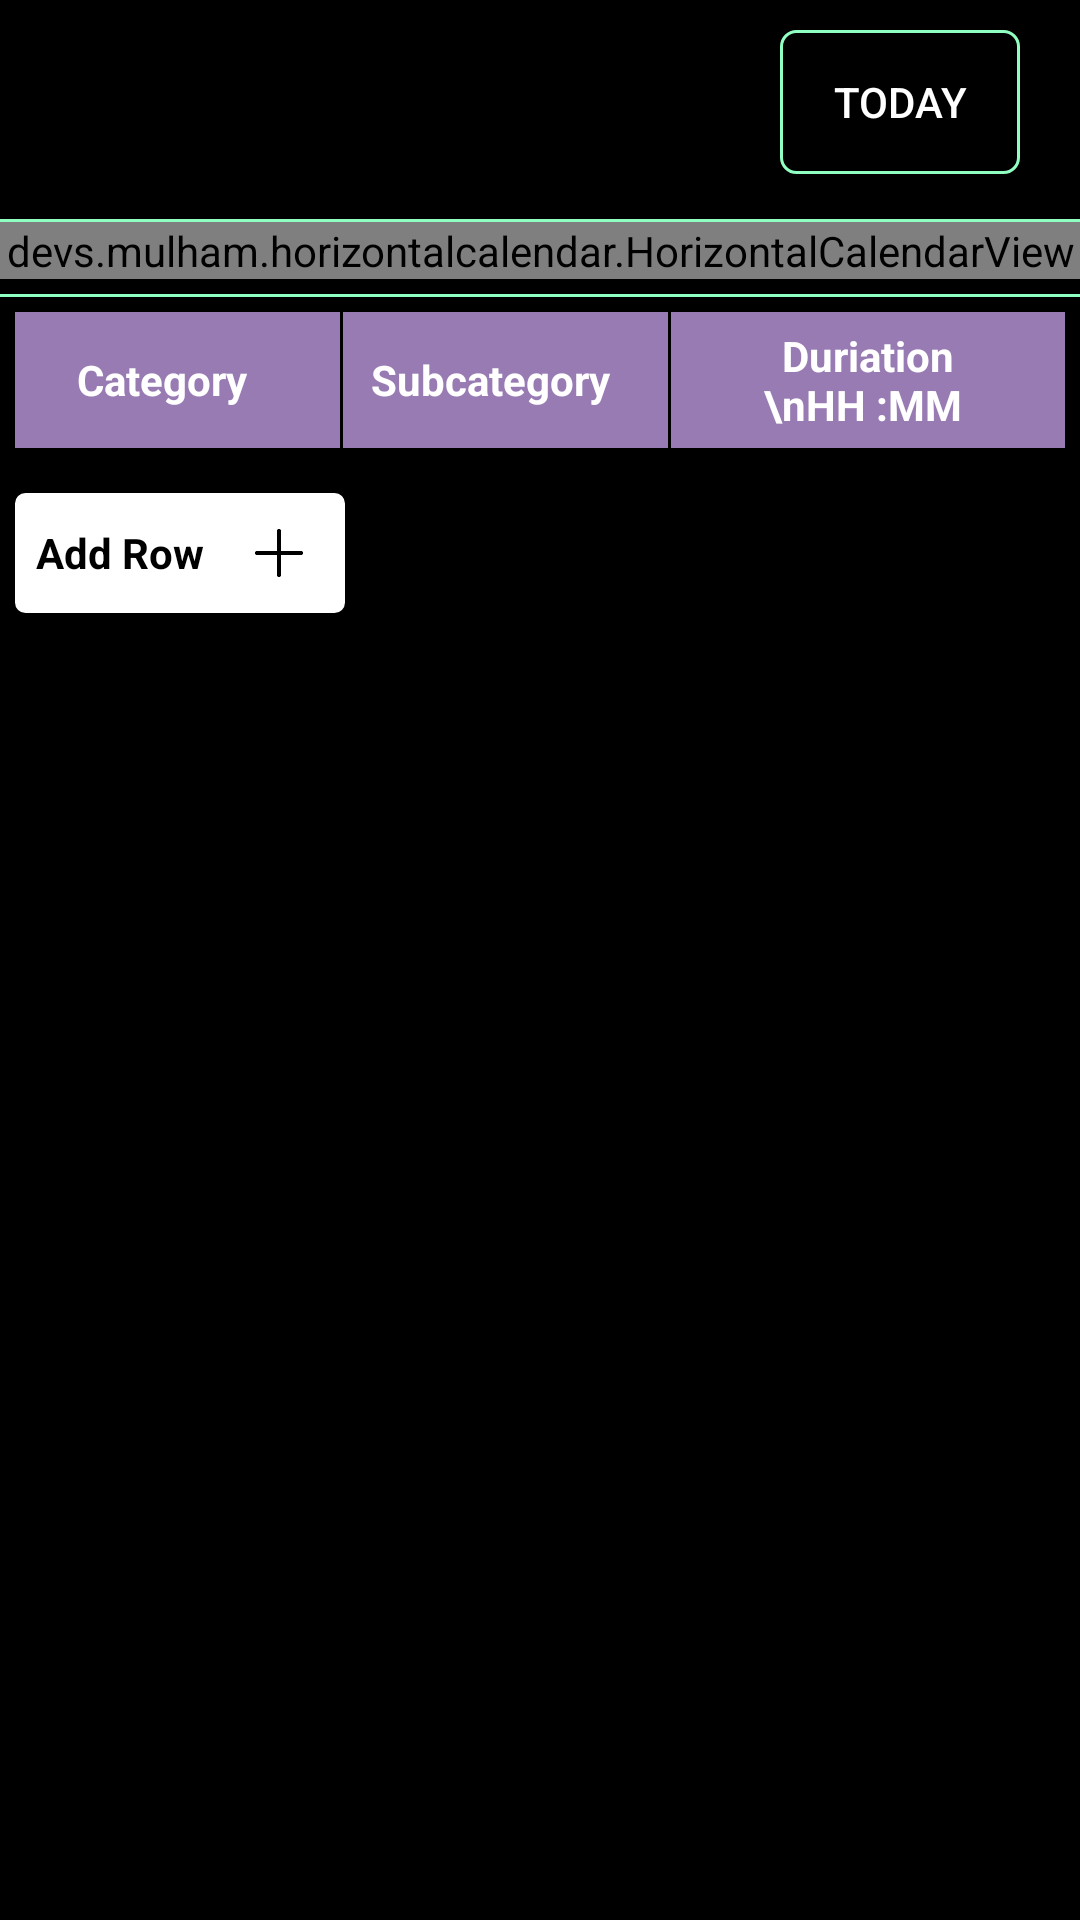

Where to tap for icons on this 1080px×1920px app screen, as (x,y):
plus: (279,553)
